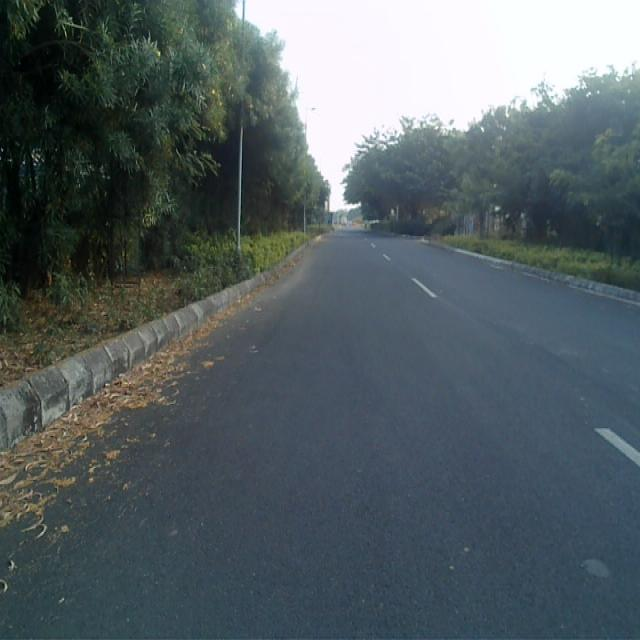lane: (0, 233, 640, 640)
